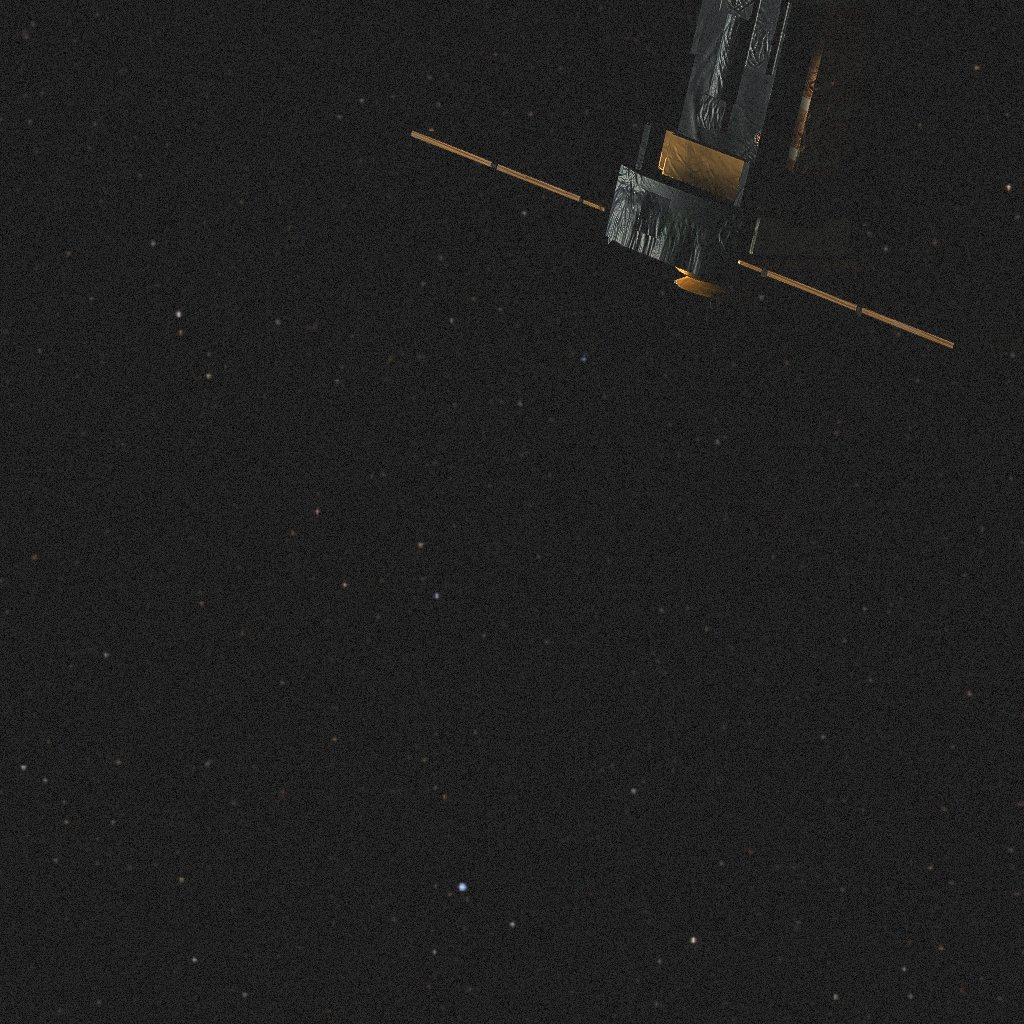soho: (411, 0, 1024, 349)
